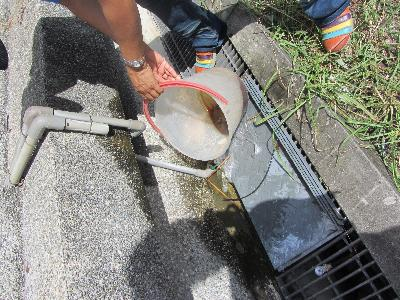bucket: (145, 66, 252, 162)
